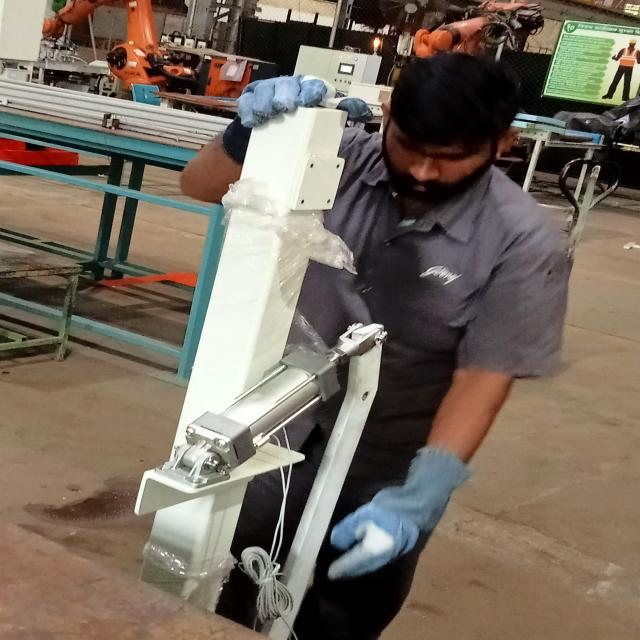Gloves-Detection: (327, 442, 466, 579), (249, 84, 374, 130)
